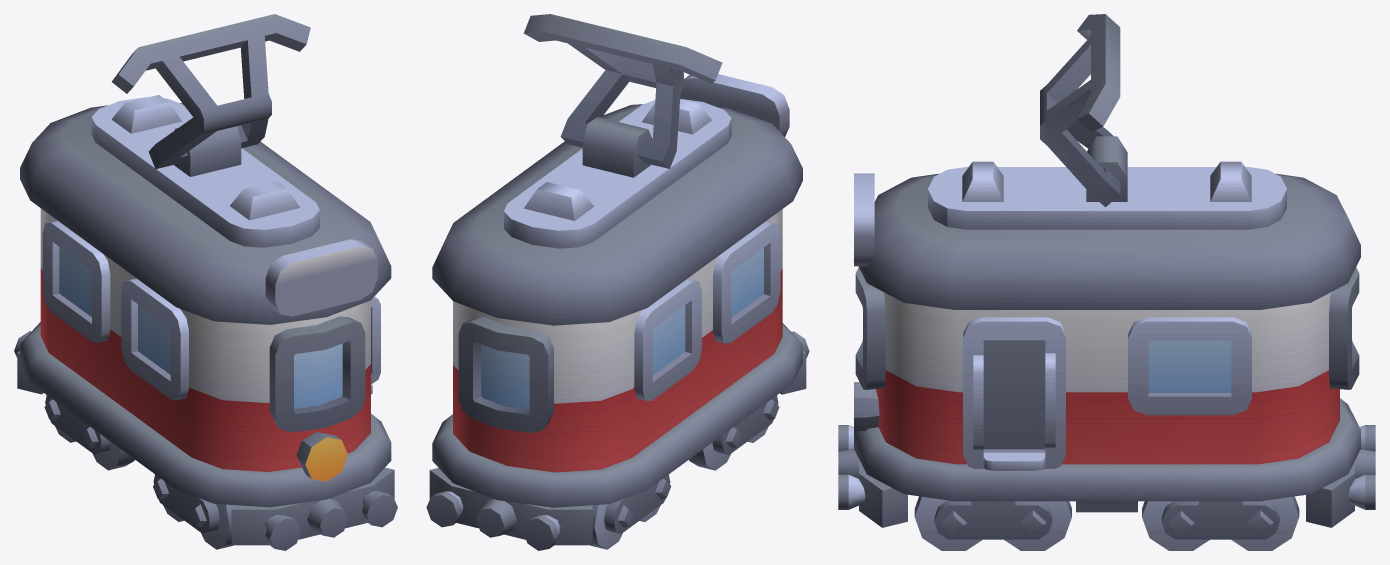
File: train-tram-round.glb
The picture shows the model from 3 angles, left to right: view 1: azimuth 30°, elevation 25°; view 2: azimuth 150°, elevation 25°; view 3: azimuth 270°, elevation 25°; orthographic projection. The views are drawn at different scales.
Parts seen in each view (by area): view 1: train-tram-round, collector, Group, wheels-front, wheels-back; view 2: train-tram-round, collector, Group, wheels-back, wheels-front; view 3: train-tram-round, Group, collector, wheels-front, wheels-back.
Boxes of the visible parts, x1,y1,x2,y2 form: train-tram-round: (14,95,397,550); collector: (112,14,310,169); Group: (91,97,319,247); wheels-front: (153,474,233,549); wheels-back: (44,395,134,470); train-tram-round: (426,74,809,550); collector: (523,14,722,168); Group: (504,99,731,248); wheels-back: (590,474,671,549); wheels-front: (689,395,779,470); train-tram-round: (838,136,1375,527); Group: (928,167,1286,229); collector: (1040,14,1120,207); wheels-front: (914,496,1071,550); wheels-back: (1142,496,1299,550).
Bounding box in the file's own units: 1.25 × 2.49 × 2.6.
Materials: 1 (1 with a texture image).
